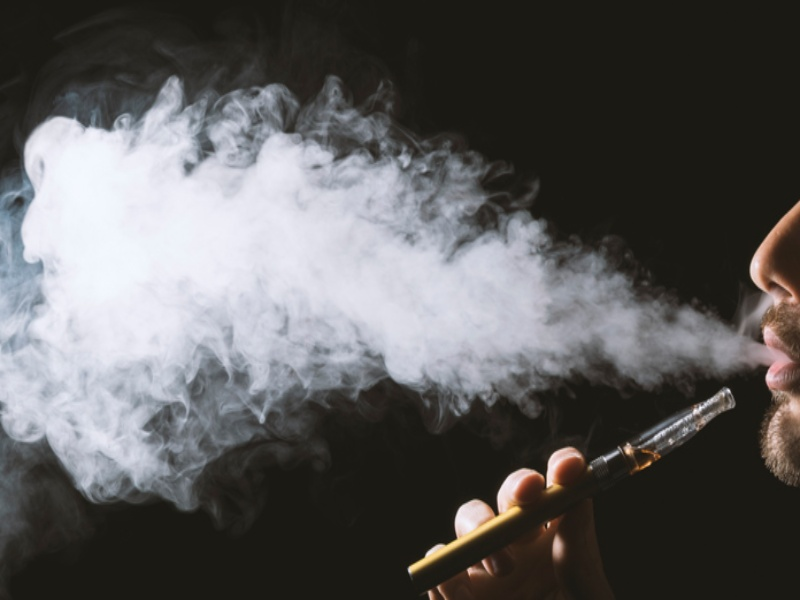smoke: (28, 131, 472, 395)
